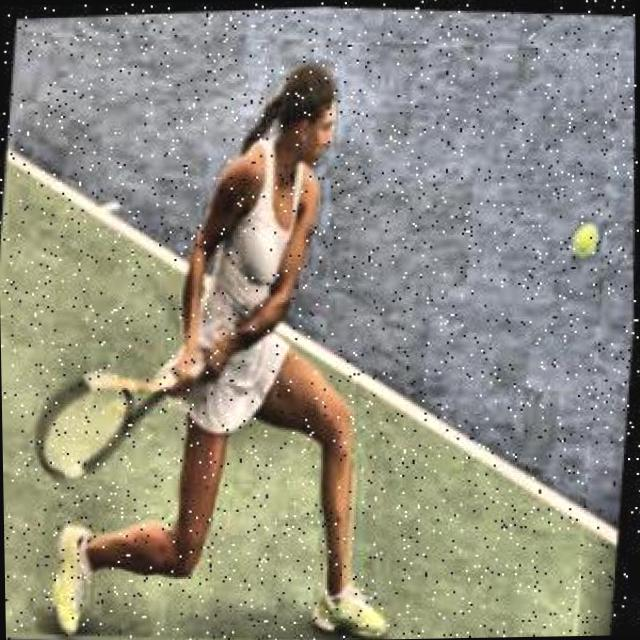Tennis Ball: (570, 223, 601, 254)
